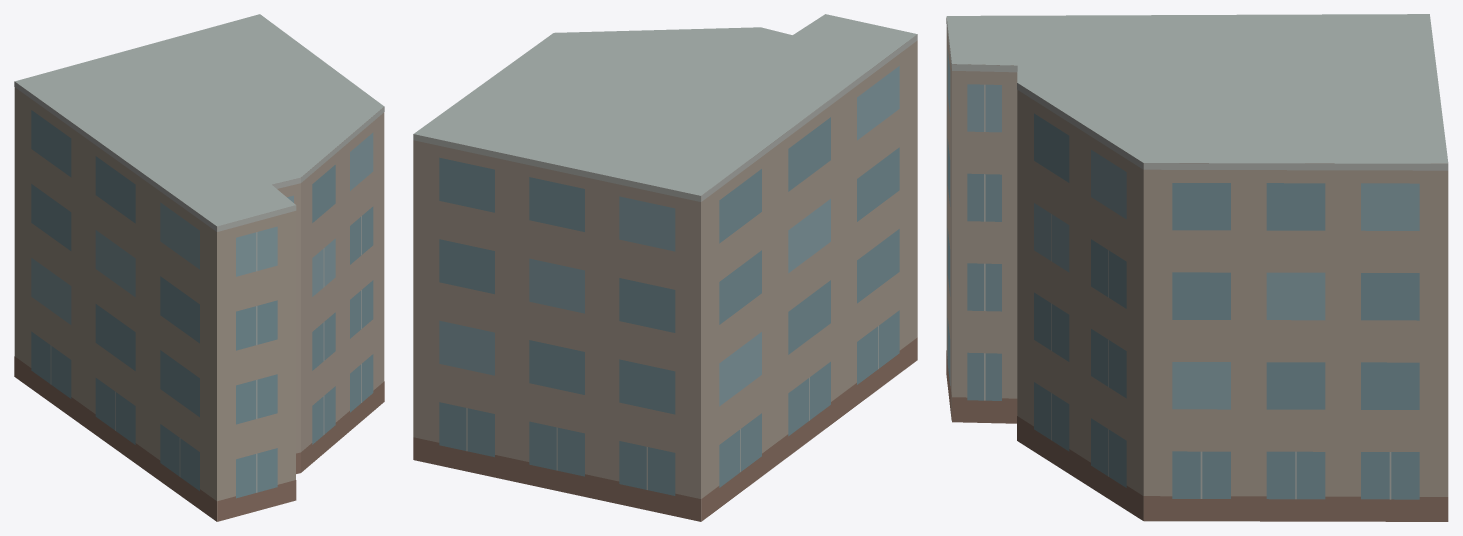
File: survey-upis-32763176.glb
3 views of the same model, side by side, from view 1: azimuth 30°, elevation 25°; view 2: azimuth 150°, elevation 25°; view 3: azimuth 270°, elevation 25° (orthographic). The views are drawn at different scales.
Visible parts, largest first — view 1: survey-upis-32763176.tmp; view 2: survey-upis-32763176.tmp; view 3: survey-upis-32763176.tmp.
Part boxes in pixels (x1,y1,x2,y2): survey-upis-32763176.tmp: (14, 14, 384, 521); survey-upis-32763176.tmp: (413, 14, 917, 521); survey-upis-32763176.tmp: (946, 14, 1448, 521).
Size of the model in its own units: 11.49 by 12.8 by 16.27.
